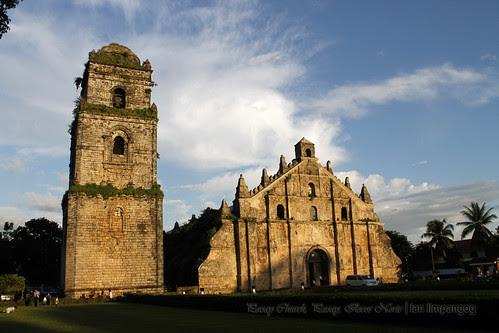Environmental Damage: (65, 180, 166, 199), (76, 103, 157, 119), (84, 51, 150, 70), (222, 213, 265, 224)
Paoay Church: (66, 38, 404, 287)
